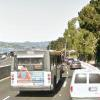Bus: (5, 45, 65, 94)
